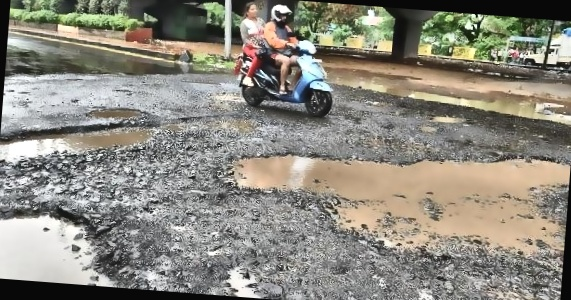pothole: (217, 130, 571, 264), (0, 200, 137, 288), (0, 112, 163, 174), (87, 103, 149, 123)
